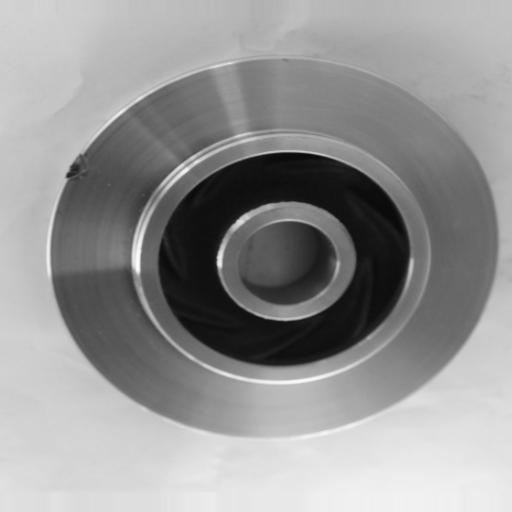crack: (53, 142, 98, 190)
unpolished_casting: (43, 52, 494, 441)
